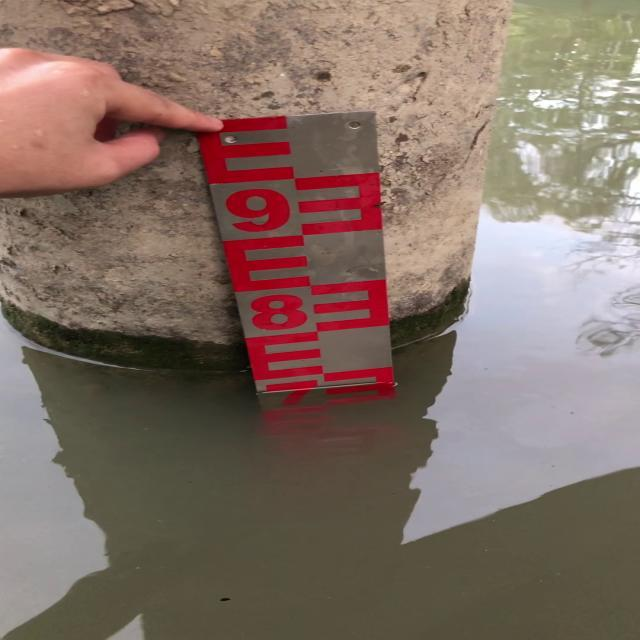ruler: (173, 100, 414, 410)
value: (205, 179, 303, 242), (234, 287, 318, 339)
